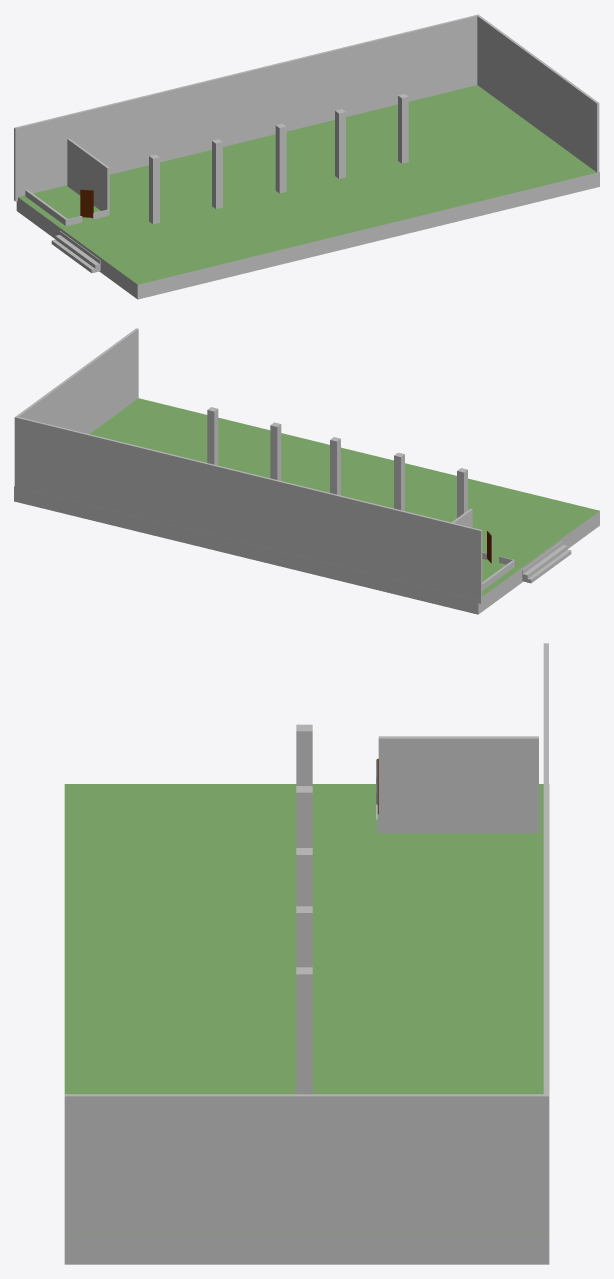
The model's file is souko.glb.
3 views of the same model, one above another, from view 1: azimuth 30°, elevation 25°; view 2: azimuth 150°, elevation 25°; view 3: azimuth 270°, elevation 25° (orthographic). The views are drawn at different scales.
Parts seen in each view (by area): view 1: Cube.015; view 2: Cube.015; view 3: Cube.015.
Boxes of the visible parts, bbox=[...] form: Cube.015: bbox=[14, 14, 599, 299]; Cube.015: bbox=[14, 328, 599, 614]; Cube.015: bbox=[64, 643, 549, 1264].
Size of the model in its own units: 108 by 18.38 by 48.13.
